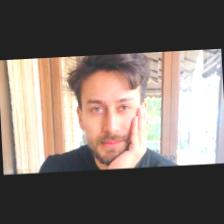Normal: (84, 76, 138, 153)
